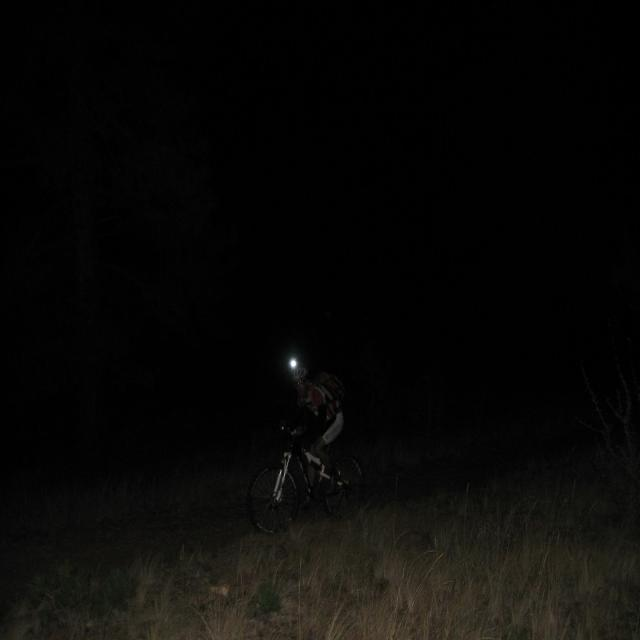Bicycle: (222, 420, 389, 535)
People: (278, 326, 345, 476)
